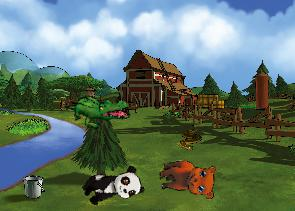bear: (157, 158, 218, 203)
crocodile: (64, 83, 132, 137)
panda: (79, 163, 145, 210)
